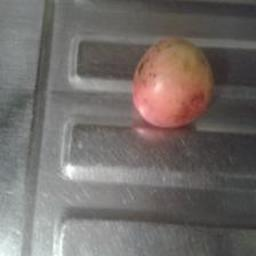Mango Semifresh: (123, 27, 214, 127)
